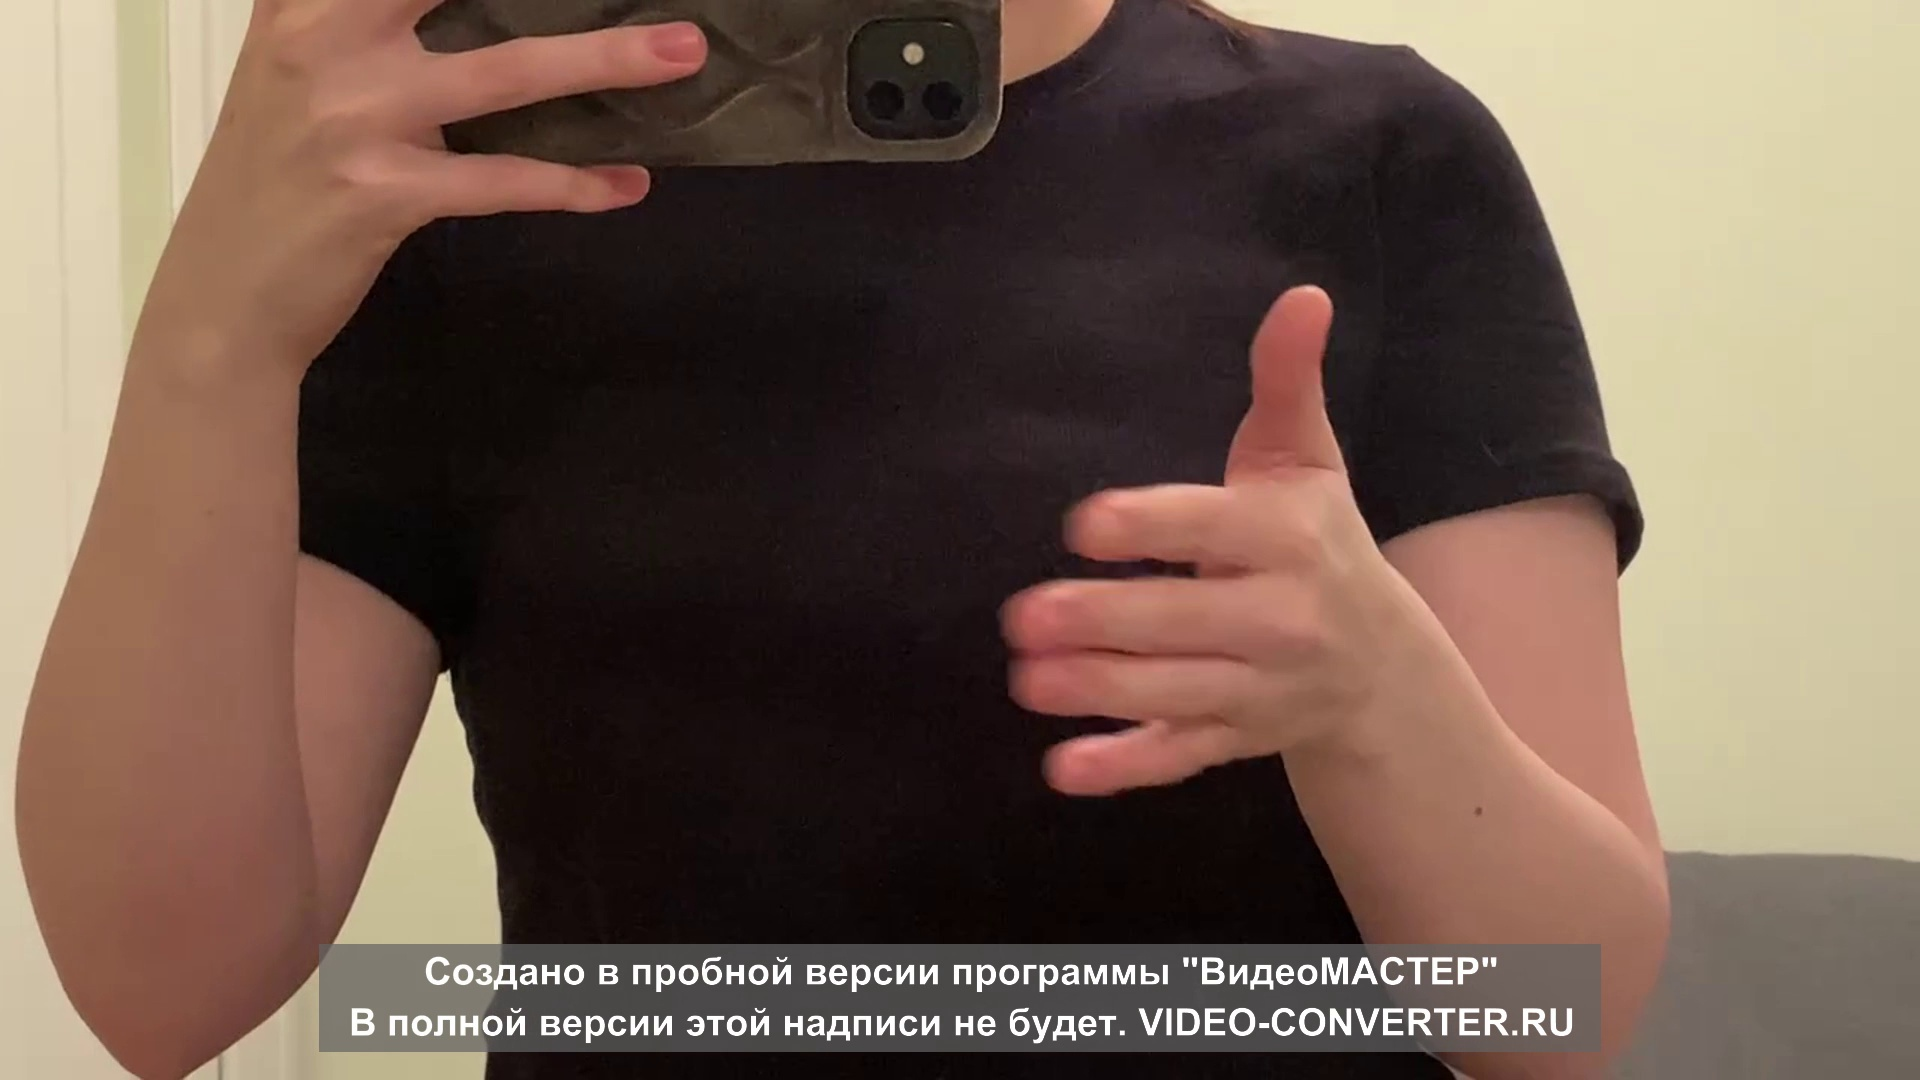Кисть: (1004, 284, 1386, 791)
